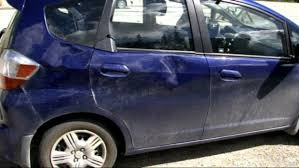Dent: (155, 56, 185, 84)
